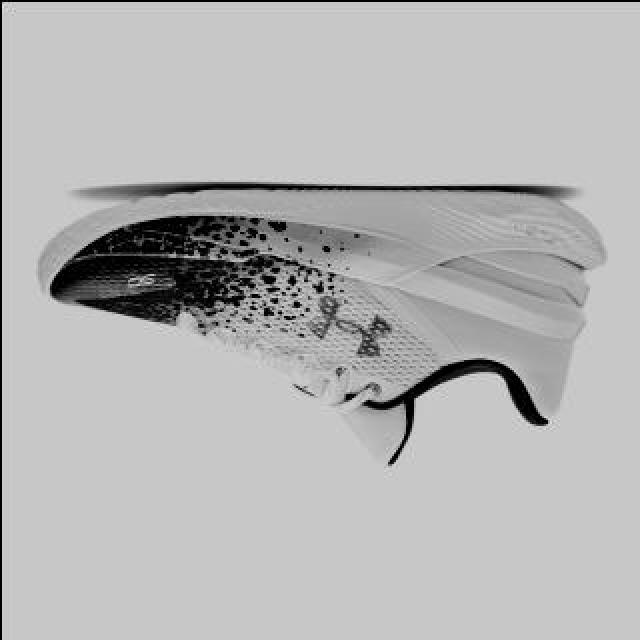shoe: (37, 186, 605, 466)
